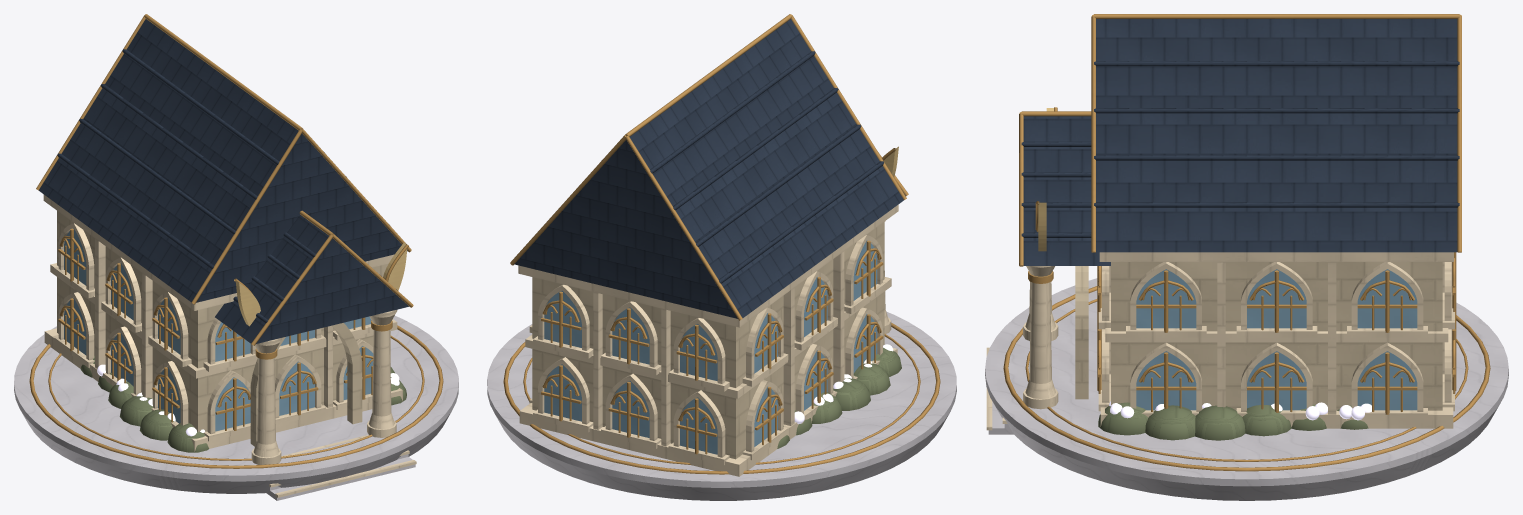
File: clarentine-s-house.glb
3 renders of one model, left to right at view 1: azimuth 30°, elevation 25°; view 2: azimuth 150°, elevation 25°; view 3: azimuth 270°, elevation 25°, orthographic. The views are drawn at different scales.
Bounding box in the file's own units: 6.04 × 4.84 × 6.04.
9 materials, 9 textured.
